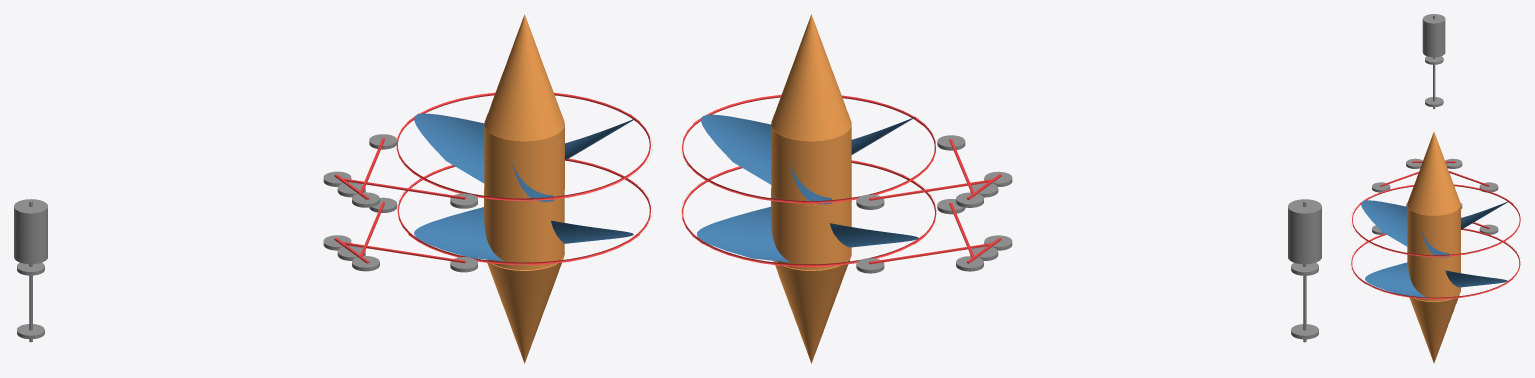
Rendered from Zep.gltf.
The picture shows the model from 3 angles, left to right: view 1: azimuth 30°, elevation 25°; view 2: azimuth 150°, elevation 25°; view 3: azimuth 270°, elevation 25°; orthographic projection. The views are drawn at different scales.
Visible parts, largest first — view 1: Object15, Object13, Object0, Object1, Object12, Object2, Object46, Object3, Object7, Object8, Object9, Object14 (+1 smaller); view 2: Object15, Object13, Object0, Object1, Object8, Object4, Object46, Object2, Object6, Object11, Object10, Object9; view 3: Object15, Object13, Object0, Object1, Object11, Object3, Object46, Object4, Object5, Object12, Object9, Object10 (+6 smaller).
Boxes of the visible parts, left/top/right/bottom form: Object15: left=484, top=14, right=564, bottom=140; Object13: left=484, top=125, right=564, bottom=205; Object0: left=484, top=188, right=564, bottom=269; Object1: left=486, top=253, right=564, bottom=363; Object12: left=414, top=113, right=484, bottom=183; Object2: left=414, top=207, right=503, bottom=261; Object46: left=14, top=199, right=47, bottom=264; Object3: left=551, top=220, right=633, bottom=243; Object7: left=408, top=232, right=639, bottom=264; Object8: left=565, top=118, right=635, bottom=160; Object9: left=409, top=92, right=639, bottom=122; Object14: left=396, top=113, right=532, bottom=201; Object15: left=771, top=14, right=851, bottom=140; Object13: left=771, top=126, right=851, bottom=205; Object0: left=771, top=189, right=851, bottom=270; Object1: left=773, top=255, right=851, bottom=363; Object8: left=701, top=114, right=771, bottom=184; Object4: left=697, top=206, right=790, bottom=262; Object46: left=1288, top=199, right=1321, bottom=264; Object2: left=829, top=223, right=918, bottom=247; Object6: left=692, top=233, right=923, bottom=266; Object11: left=851, top=117, right=915, bottom=154; Object10: left=693, top=94, right=924, bottom=125; Object9: left=682, top=117, right=805, bottom=203; Object15: left=1407, top=131, right=1460, bottom=215; Object13: left=1407, top=204, right=1460, bottom=258; Object0: left=1407, top=248, right=1460, bottom=301; Object1: left=1409, top=293, right=1459, bottom=363; Object11: left=1361, top=200, right=1407, bottom=246; Object3: left=1365, top=262, right=1425, bottom=297; Object46: left=1422, top=14, right=1445, bottom=57; Object4: left=1445, top=270, right=1507, bottom=287; Object5: left=1359, top=277, right=1512, bottom=299; Object12: left=1460, top=201, right=1509, bottom=229; Object9: left=1428, top=199, right=1520, bottom=256; Object10: left=1352, top=199, right=1442, bottom=256.
Size of the model in its own units: 5.03 by 2.71 by 1.8.
